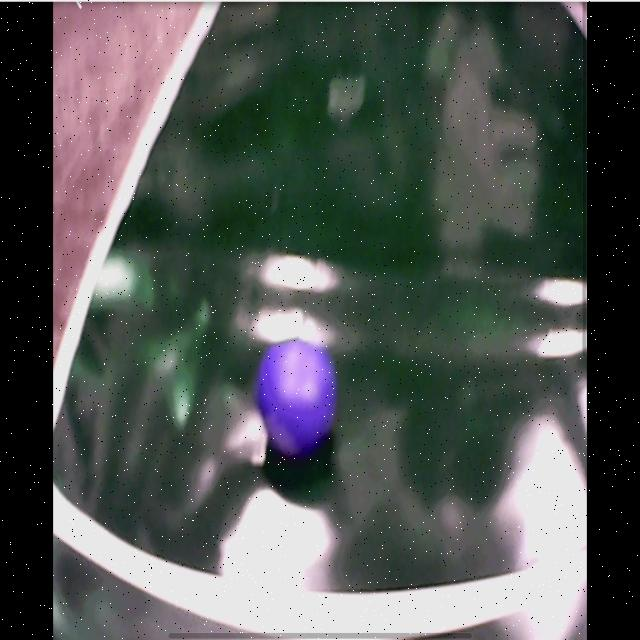ball: (260, 337, 335, 454)
